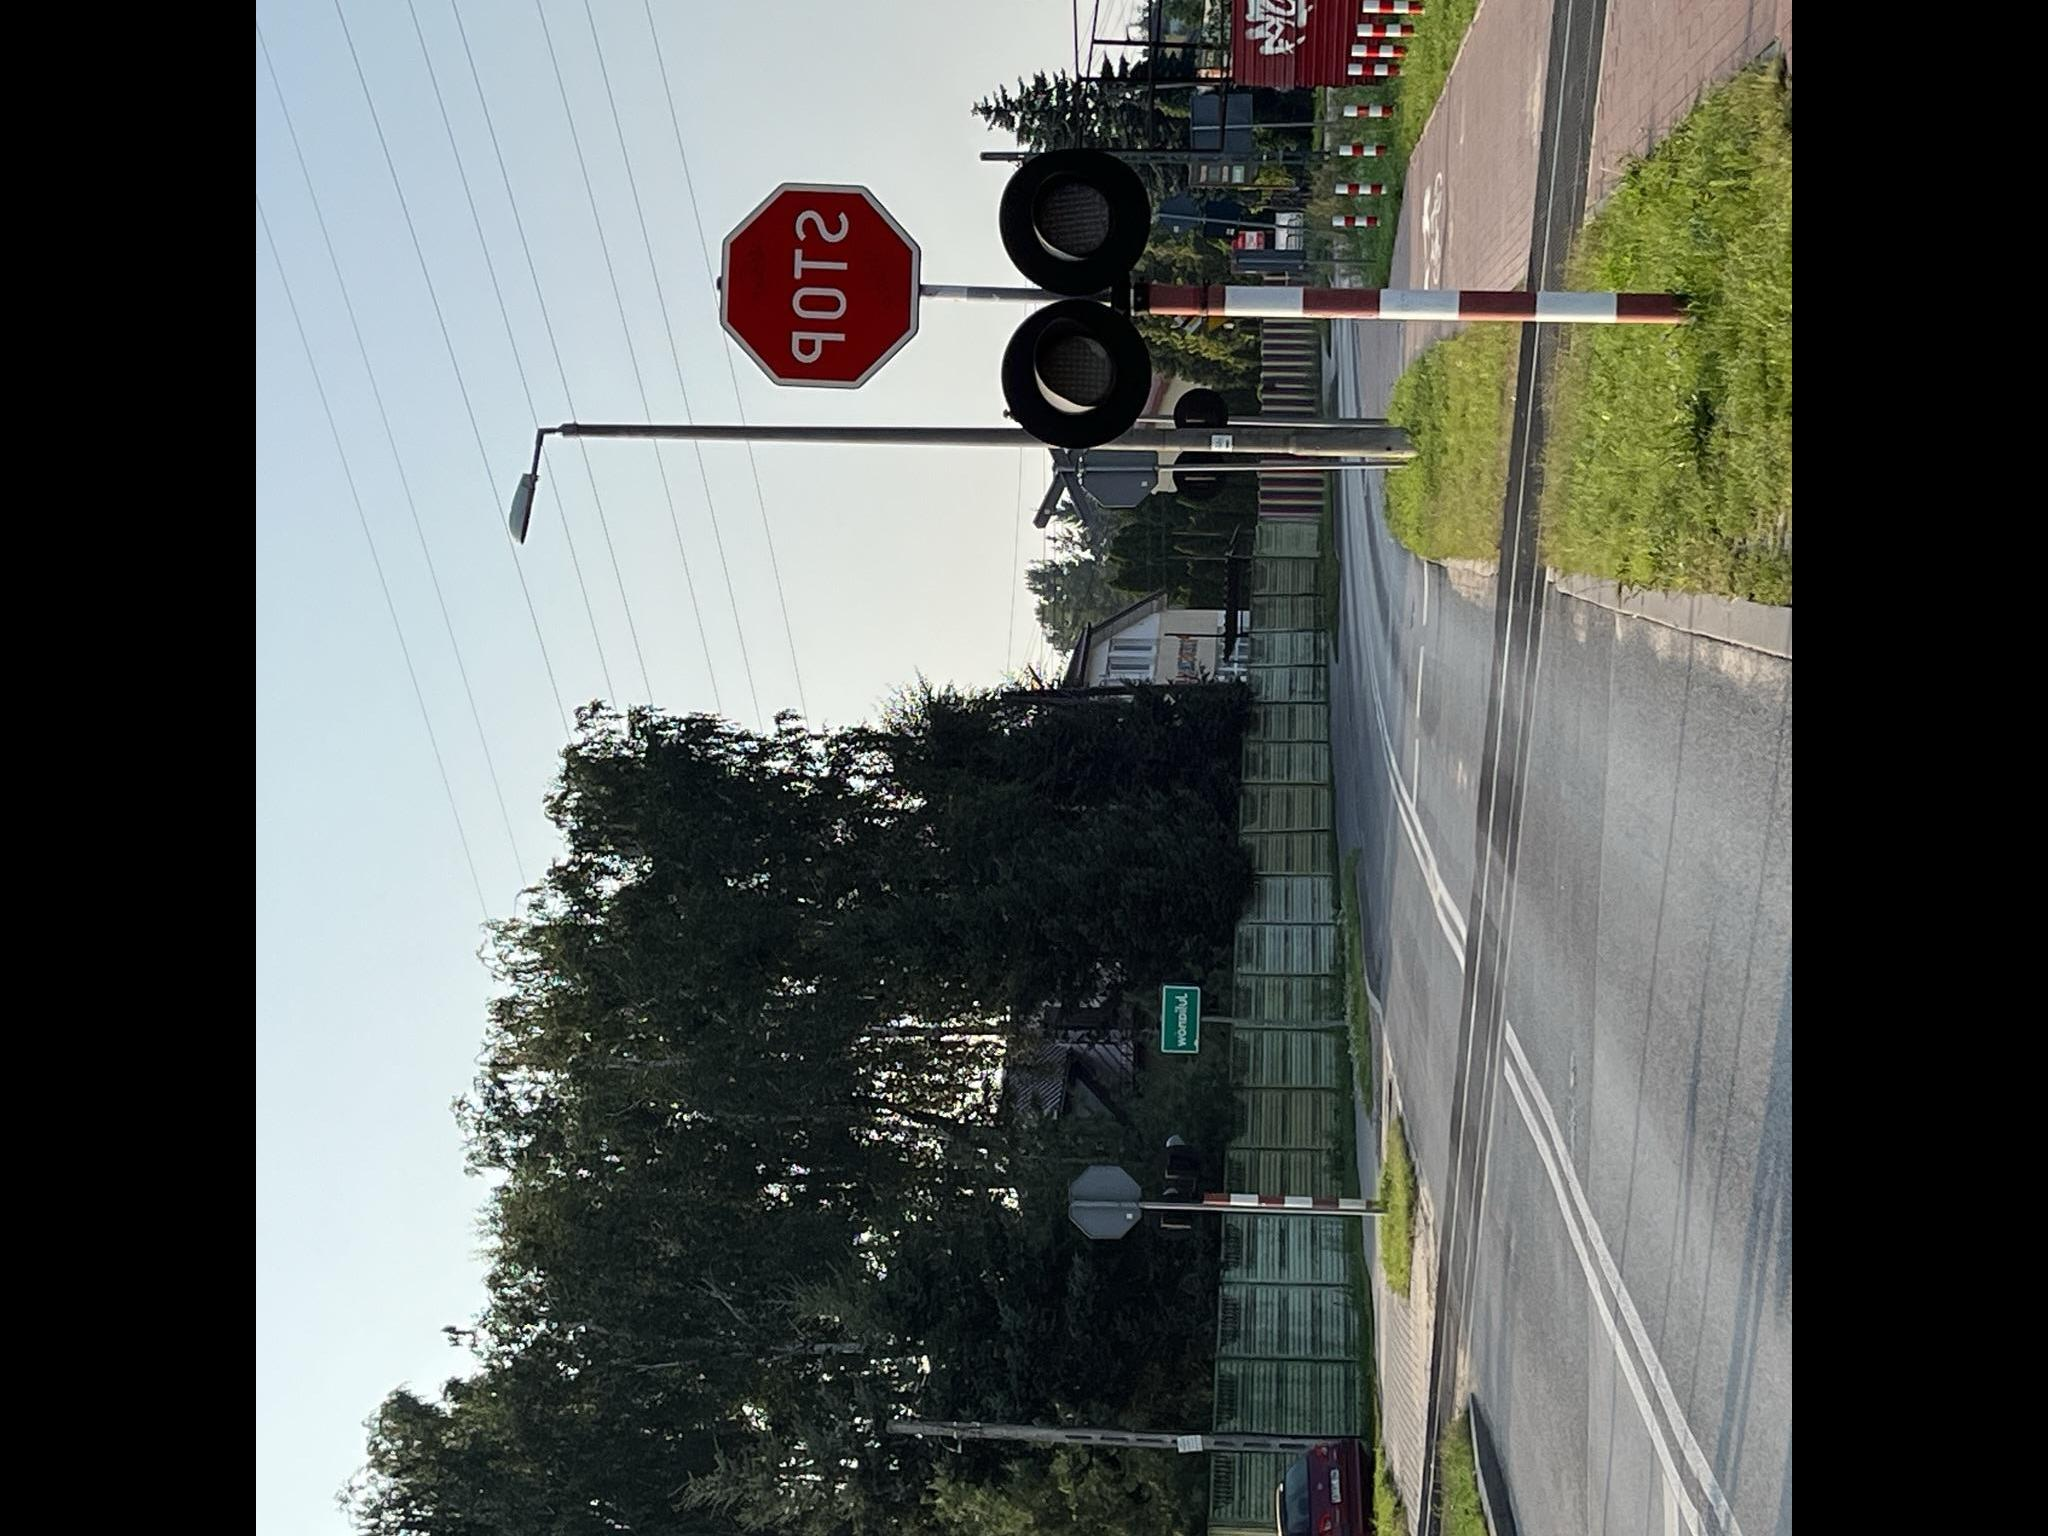prohibitory: (718, 182, 921, 389)
